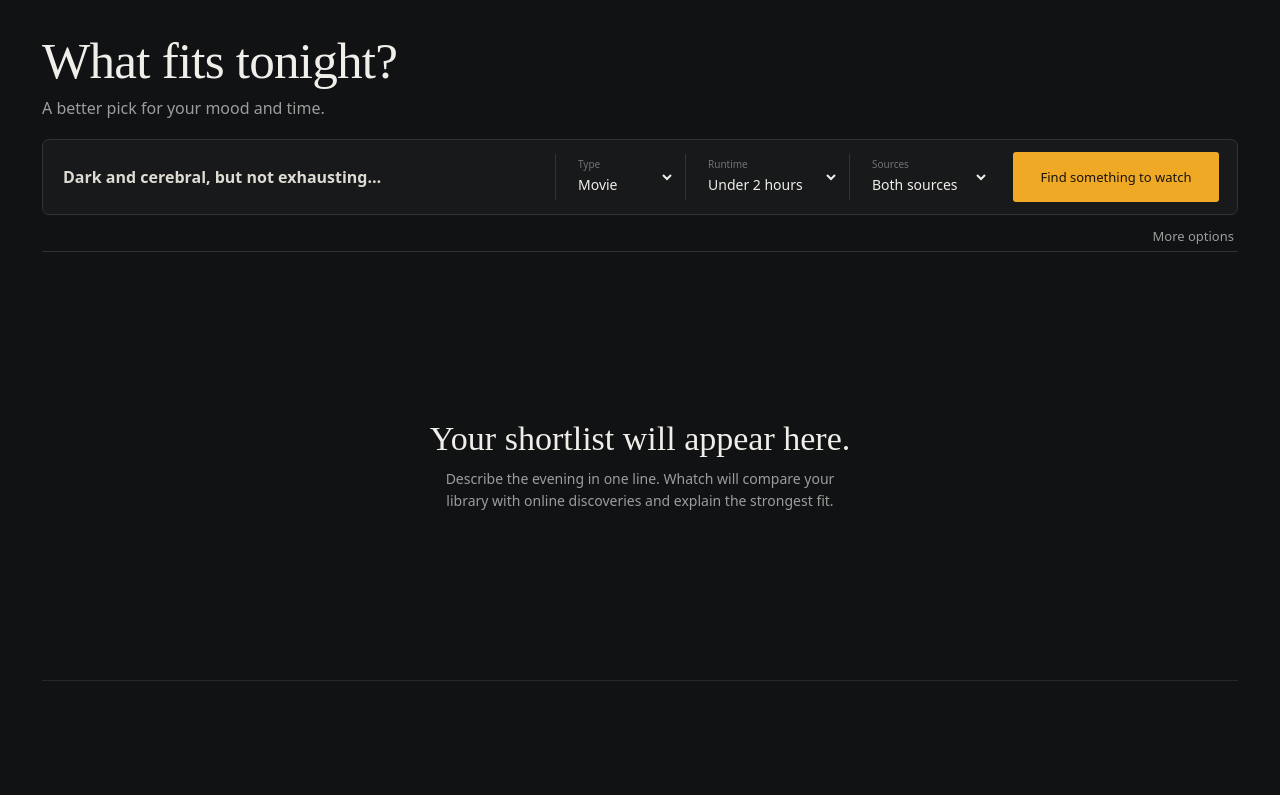
Test: TonightScreen load more › keeps a clear disabled progress control when every matching option is loaded
Select "My list" in the dropdown named "Recommendation sources" at point(924, 177), box [860,154,989,200]
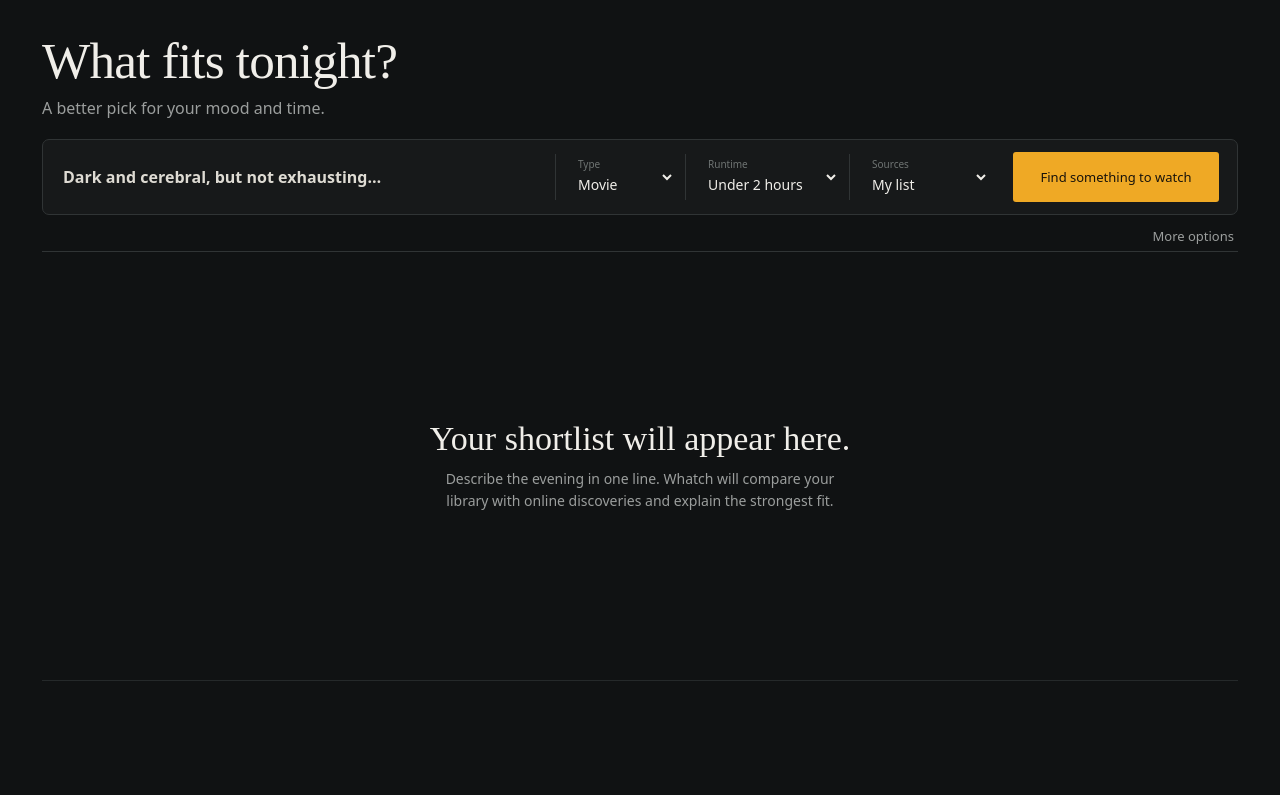
Click the button "Find something to watch" at point(1116, 177), box [1013,152,1219,202]
(page scrolled)
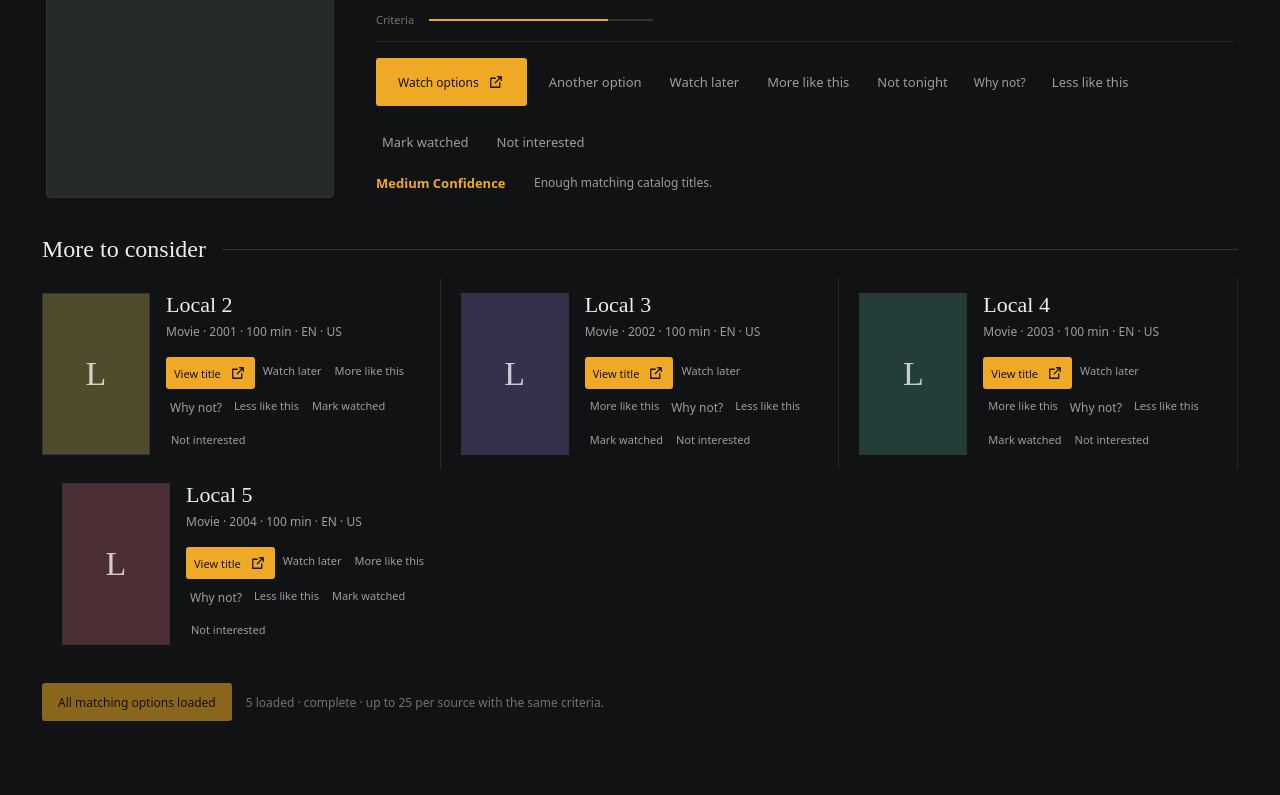
Now the button "All matching options loaded" is disabled, box [42,683,232,721]
Now the text "5 loaded · complete" is shown, box [246,694,604,711]
